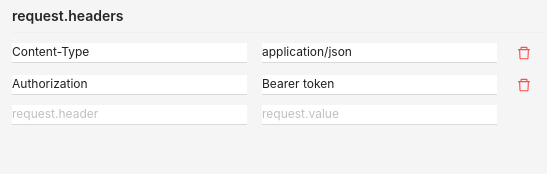
HeadersEditor › should add new row when focusing on last row
The image size is (547, 174).
Focus the field with placeholder "request.header" at (130, 115), box x1=12 y1=105 x2=247 y2=125
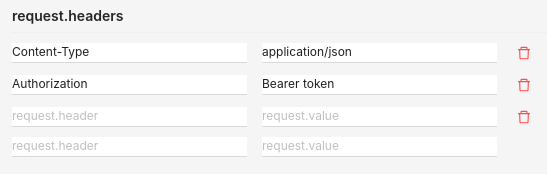
Expected: the number of fields with placeholder "request.header" is 4, x1=12 y1=43 x2=247 y2=63; x1=12 y1=75 x2=247 y2=95; x1=12 y1=107 x2=247 y2=127; x1=12 y1=137 x2=247 y2=157
